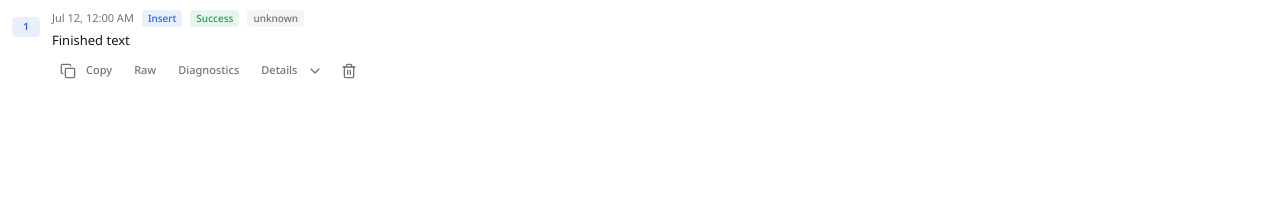
Test: TranscriptionItem › distinguishes the selected cleanup model from a successful Sol safety retry
The image size is (1280, 218).
Click the button "Details". click: click(292, 70)
box: x1=253 y1=58 x2=332 y2=82
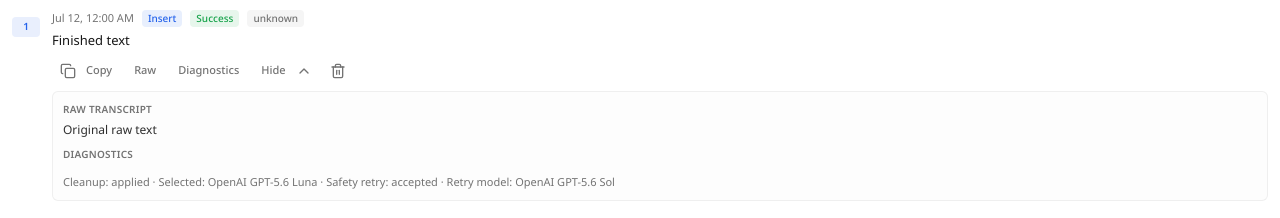
Expected: the button named "Details" is expanded, x1=253 y1=58 x2=320 y2=82
Expected: the text "Cleanup: applied" shows "Selected: OpenAI GPT-5.6 Luna", x1=150 y1=174 x2=318 y2=188
Expected: the text "Cleanup: applied" shows "Safety retry: accepted", x1=318 y1=174 x2=438 y2=188
